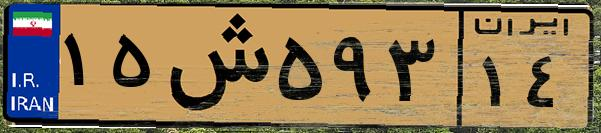1: (57, 26, 110, 100), (475, 38, 525, 113)
3: (385, 28, 445, 110)
4: (525, 38, 570, 115)
5: (270, 28, 330, 110), (110, 28, 158, 98)
9: (330, 28, 385, 110)
ش: (158, 12, 270, 120)
